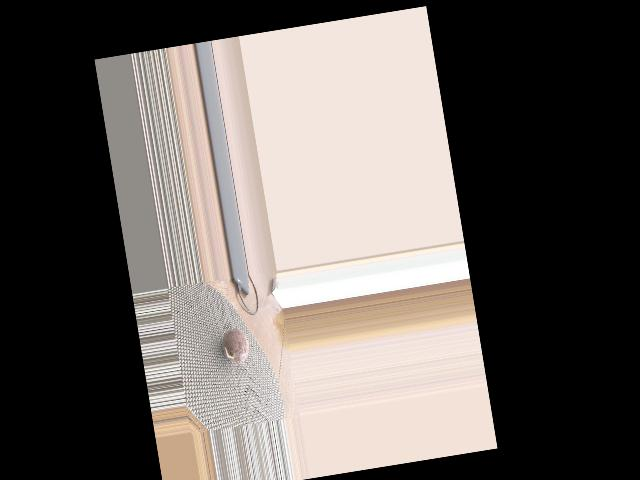beet: (219, 326, 251, 364)
